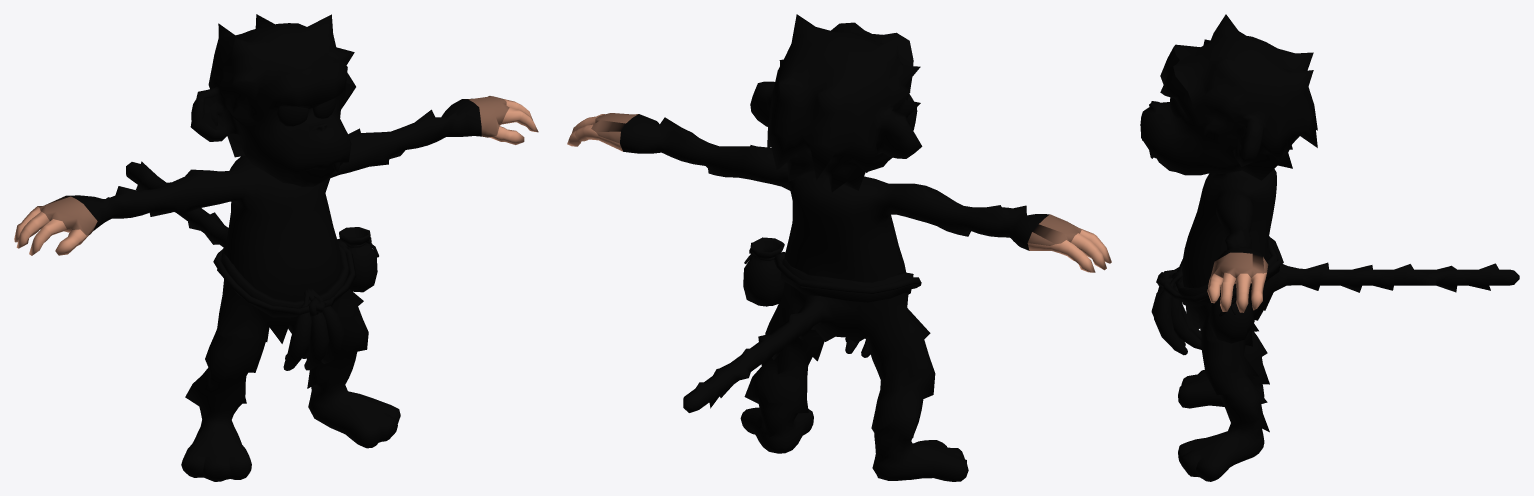
The model's file is SM_MonkeyGunner.001.fbx.
The picture shows the model from 3 angles, left to right: view 1: azimuth 30°, elevation 25°; view 2: azimuth 150°, elevation 25°; view 3: azimuth 270°, elevation 25°; orthographic projection. The views are drawn at different scales.
Visible parts, largest first — view 1: SM_Momki_001; view 2: SM_Momki_001; view 3: SM_Momki_001.
Boxes of the visible parts, x1,y1,x2,y2 form: SM_Momki_001: (14, 14, 538, 481); SM_Momki_001: (567, 14, 1111, 481); SM_Momki_001: (1140, 14, 1519, 481).
Size of the model in its own units: 196 by 131 by 153.
